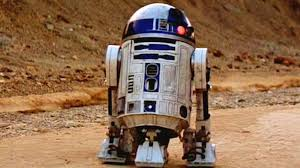r2d2: (97, 2, 216, 167)
